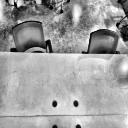chair_fail: (10, 21, 52, 52), (82, 29, 120, 53)
